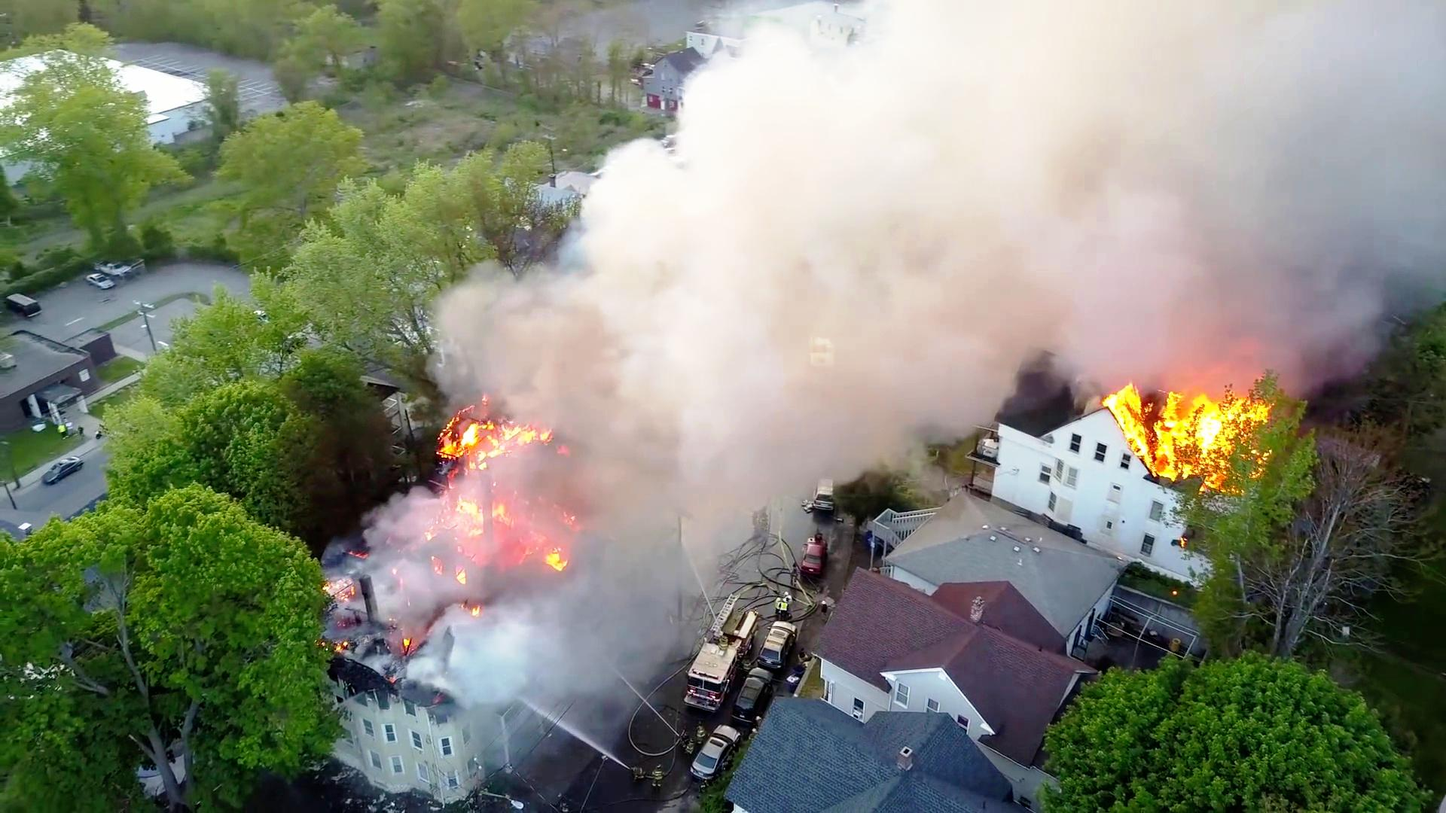fire: (1109, 350, 1246, 487), (450, 499, 566, 562), (441, 411, 546, 475)
smoke: (679, 76, 1008, 362), (605, 211, 817, 482)
